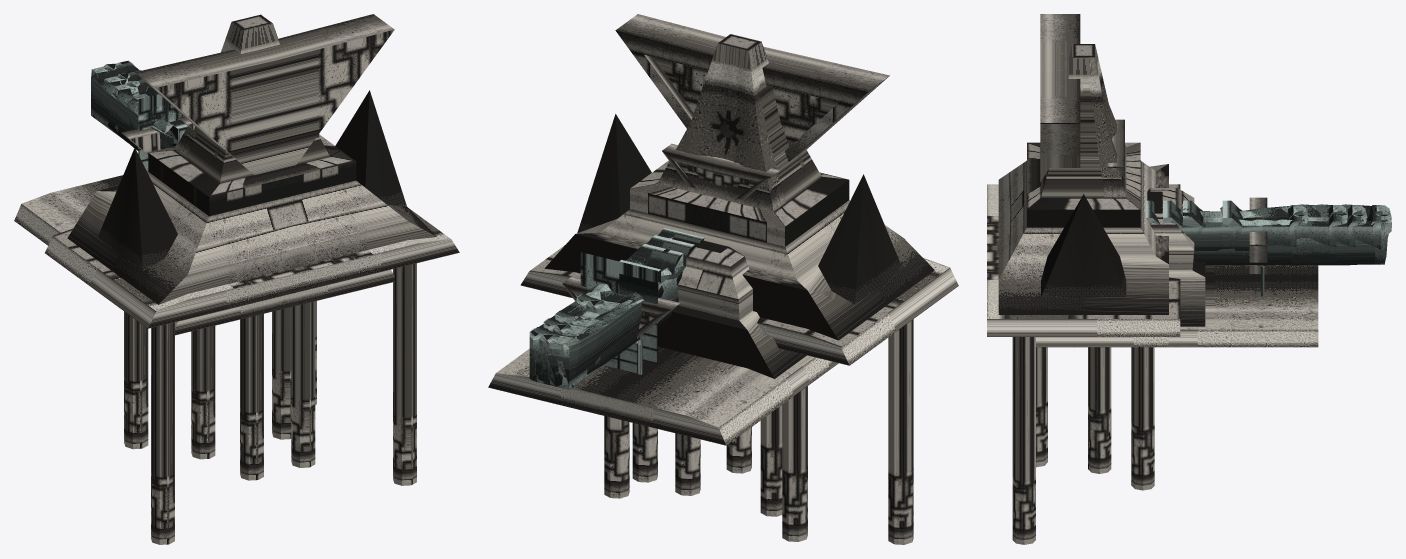
Rendered from ModularAssets_ZnTutorial1.fbx.
3 renders of one model, left to right at view 1: azimuth 30°, elevation 25°; view 2: azimuth 150°, elevation 25°; view 3: azimuth 270°, elevation 25°, orthographic. The views are drawn at different scales.
Parts seen in each view (by area): view 1: altar.learn.power1, altar.activate.power1, 1widthplatform.6.up, plano2x2.001, triangle.block.power1, 1widthplatform.4.up; view 2: altar.learn.power1, altar.activate.power1, 1widthplatform.6.up, plano2x2.001, 1heightnwidthplatform.4, 1widthplatform.4.up, 1heightnwidthplatform.6, triangle.block.power1, 1widthplatform.5.up, plano1x1.back, onewayplatform.front.right, platform.4.centerright.up (+3 smaller); view 3: altar.learn.power1, altar.activate.power1, 1heightnwidthplatform.6, 1widthplatform.4.up, 1widthplatform.2.up, 1widthplatform.5.up, 1heightnwidthplatform.2, 1widthplatform.6.up, triangle.block.power1, 1heightnwidthplatform.5.
Boxes of the visible parts, <box> form: altar.learn.power1: <box>45,14,459,544</box>; altar.activate.power1: <box>14,116,394,335</box>; 1widthplatform.6.up: <box>91,61,180,140</box>; plano2x2.001: <box>138,94,183,149</box>; triangle.block.power1: <box>121,128,160,154</box>; 1widthplatform.4.up: <box>117,85,179,149</box>; altar.learn.power1: <box>520,14,958,544</box>; altar.activate.power1: <box>488,143,838,445</box>; 1widthplatform.6.up: <box>530,231,674,389</box>; plano2x2.001: <box>580,252,657,350</box>; 1heightnwidthplatform.4: <box>555,254,683,366</box>; 1widthplatform.4.up: <box>556,247,682,325</box>; 1heightnwidthplatform.6: <box>529,228,699,386</box>; triangle.block.power1: <box>562,276,680,356</box>; 1widthplatform.5.up: <box>544,239,686,375</box>; plano1x1.back: <box>619,273,657,323</box>; onewayplatform.front.right: <box>606,340,642,374</box>; platform.4.centerright.up: <box>556,244,683,324</box>; altar.learn.power1: <box>987,14,1180,544</box>; altar.activate.power1: <box>1036,119,1318,347</box>; 1heightnwidthplatform.6: <box>1145,202,1391,265</box>; 1widthplatform.4.up: <box>1183,204,1347,250</box>; 1widthplatform.2.up: <box>1229,205,1307,250</box>; 1widthplatform.5.up: <box>1170,204,1366,250</box>; 1heightnwidthplatform.2: <box>1222,201,1308,265</box>; 1widthplatform.6.up: <box>1151,204,1391,264</box>; triangle.block.power1: <box>1249,197,1267,273</box>; 1heightnwidthplatform.5: <box>1163,201,1367,265</box>.
Bounding box in the file's own units: 850 × 1210 × 1022.
